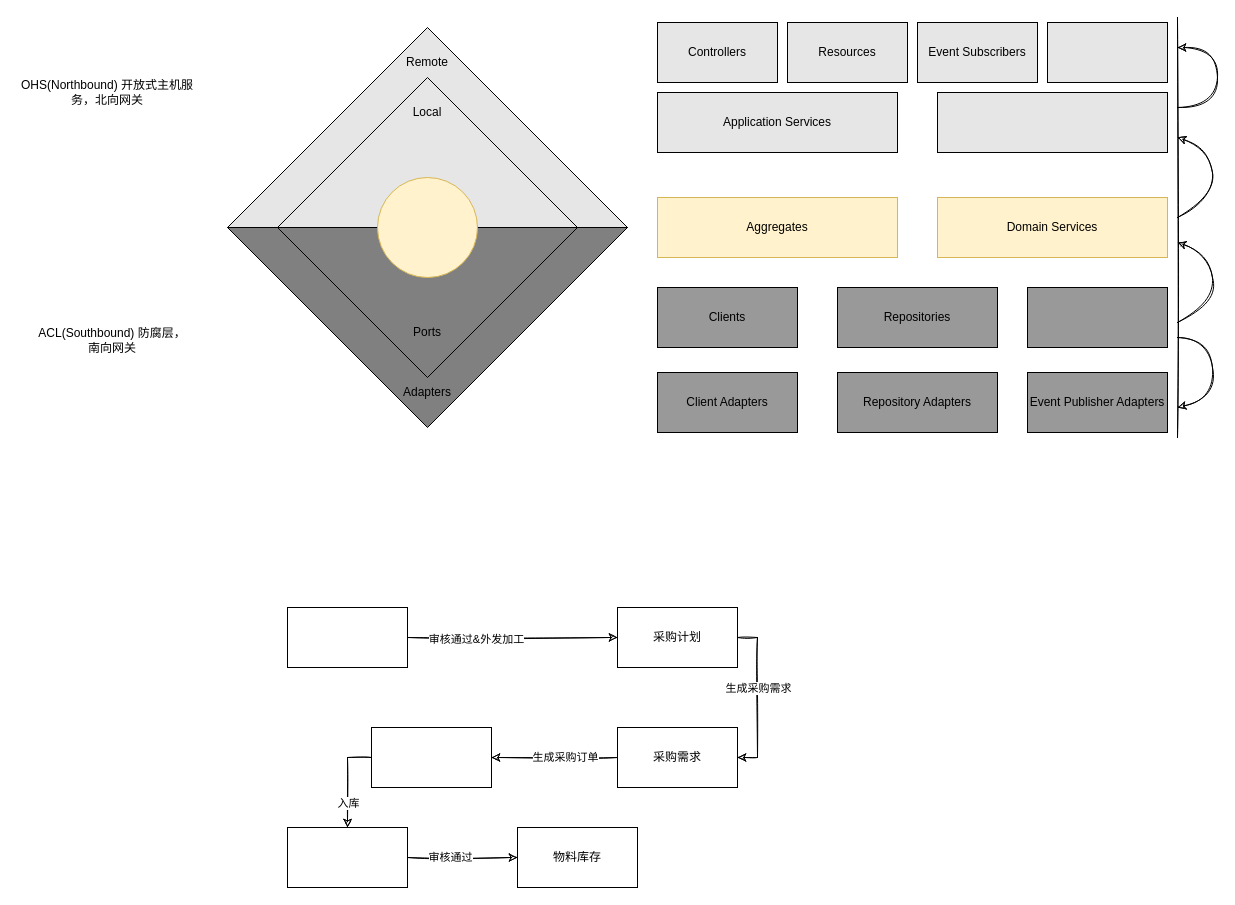
Some shapes in this 1235 by 905 pixel diagram are drawn without their labels. Each missing label, with the box of its shape:
Domain: (376, 176, 478, 278)
Event Publishers: (1026, 286, 1168, 348)
Message Contracts: (936, 92, 1168, 152)
Providers: (1046, 22, 1168, 82)
入库单: (286, 826, 408, 888)
订单需求: (286, 606, 408, 668)
采购订单: (370, 726, 492, 788)
